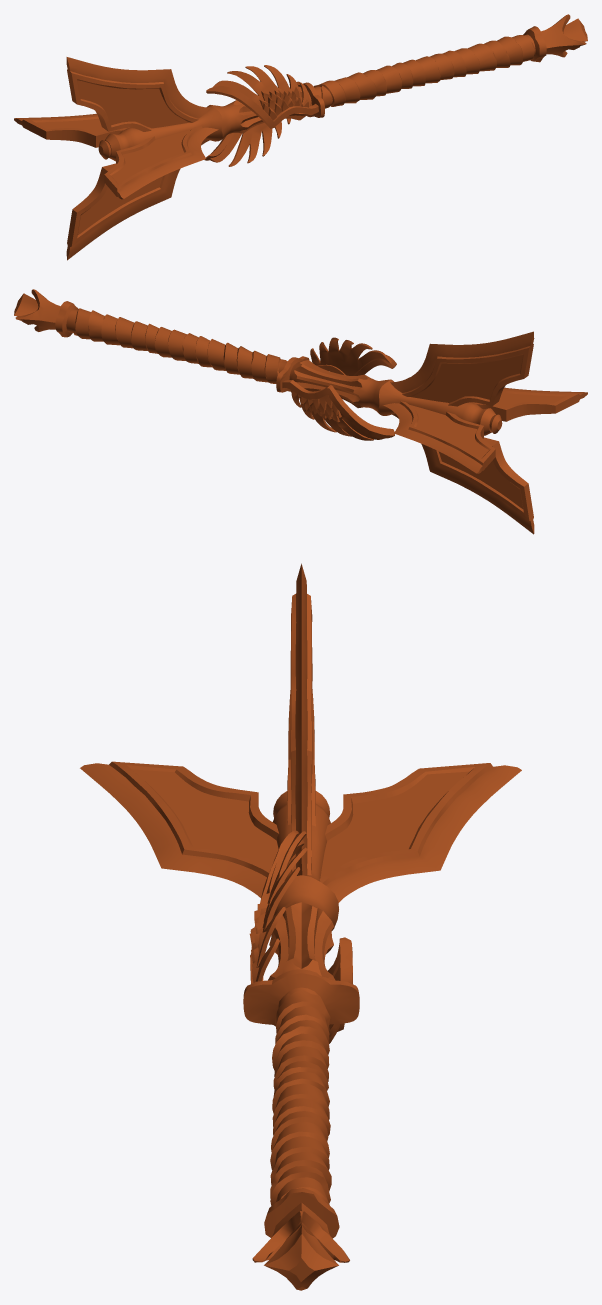
Rendered from SM_Rune_Mace_1.obj.
3 views of the same model, one above another, from view 1: azimuth 30°, elevation 25°; view 2: azimuth 150°, elevation 25°; view 3: azimuth 270°, elevation 25° (orthographic). The views are drawn at different scales.
Parts seen in each view (by area): view 1: SM_Rune_Mace_1; view 2: SM_Rune_Mace_1; view 3: SM_Rune_Mace_1.
Boxes of the visible parts, bbox=[...] form: SM_Rune_Mace_1: bbox=[14, 14, 587, 260]; SM_Rune_Mace_1: bbox=[14, 289, 587, 534]; SM_Rune_Mace_1: bbox=[80, 563, 521, 1290].
Size of the model in its own units: 1074 by 404 by 399.
